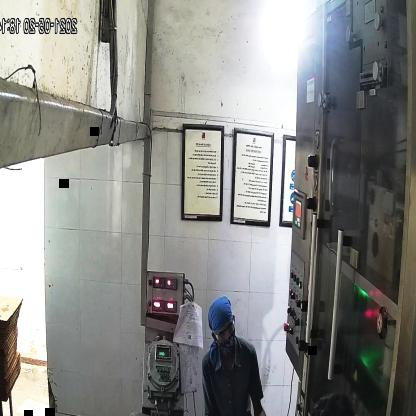goggles: (214, 316, 238, 346)
